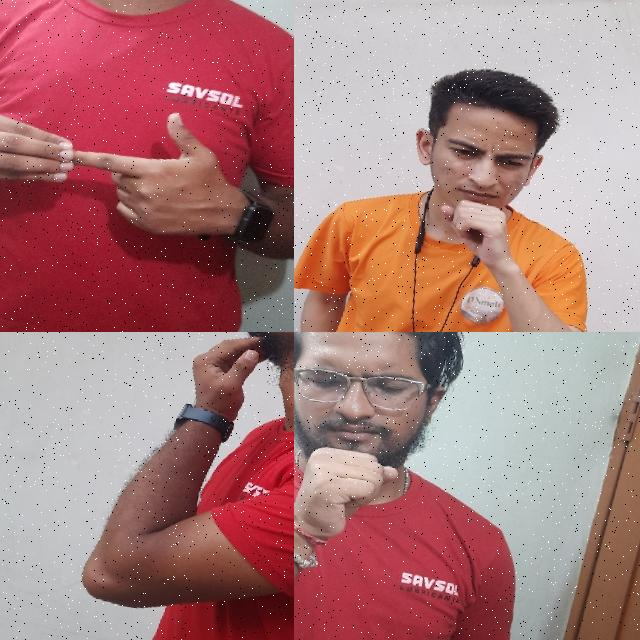Chin Flick: (167, 332, 294, 480)
Fist Mouth: (387, 52, 584, 288), (294, 332, 468, 571)
Five Fathers: (0, 70, 257, 253)
